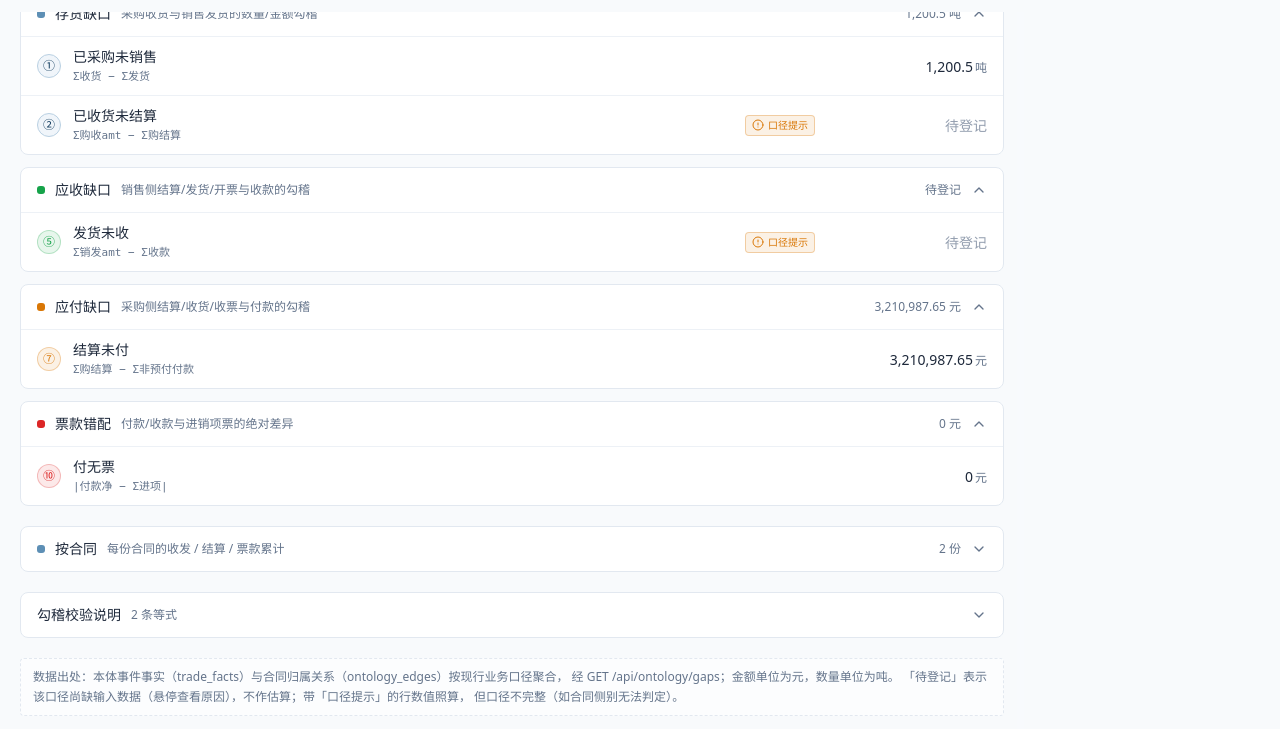
it: GapsPanel 按合同下钻 (wave8) › 默认收起, 展开后渲染合同行与七列量额(千分位)
(page scrolled)
Expected: the text "2 份" is shown, [939, 541, 961, 557]
Click the text "按合同": (76, 549) [55, 539, 97, 559]
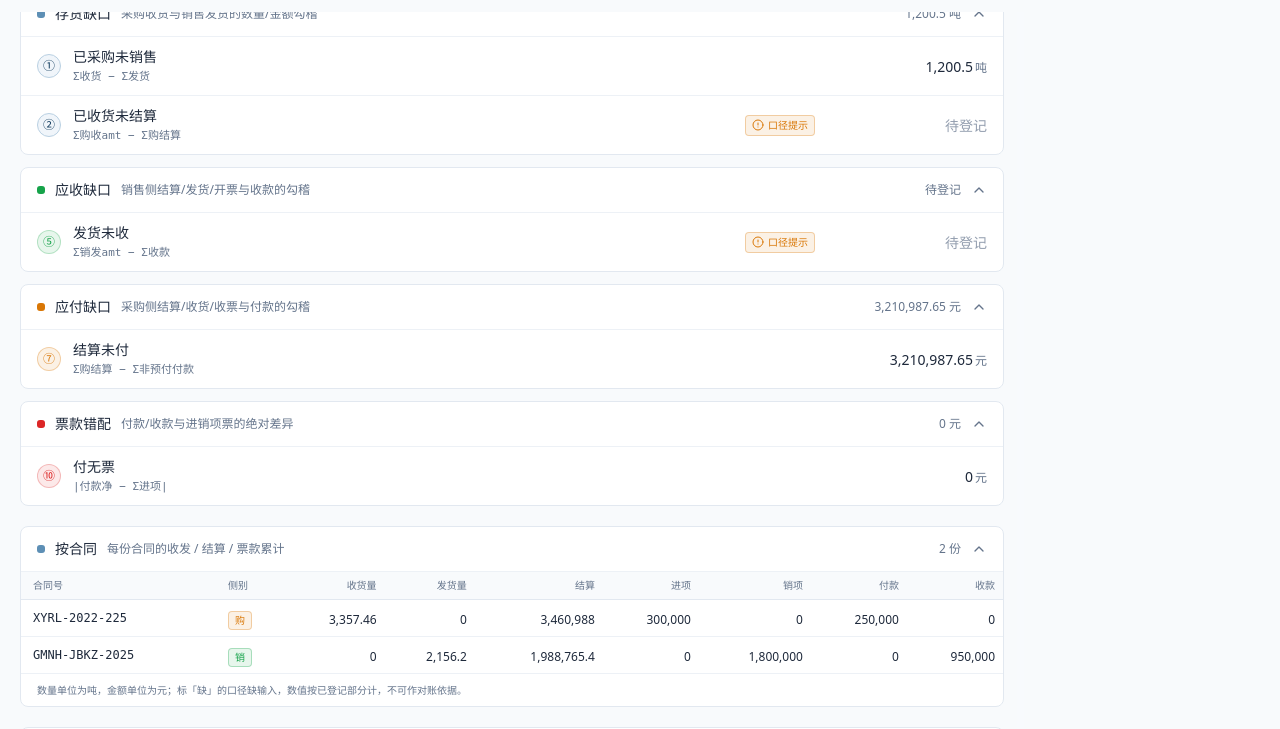
Expected: the text "XYRL-2022-225" is shown, [21, 600, 220, 636]
Expected: the text "GMNH-JBKZ-2025" is shown, [21, 636, 220, 673]
Expected: the text "3,357.46" is shown, [329, 611, 377, 628]
